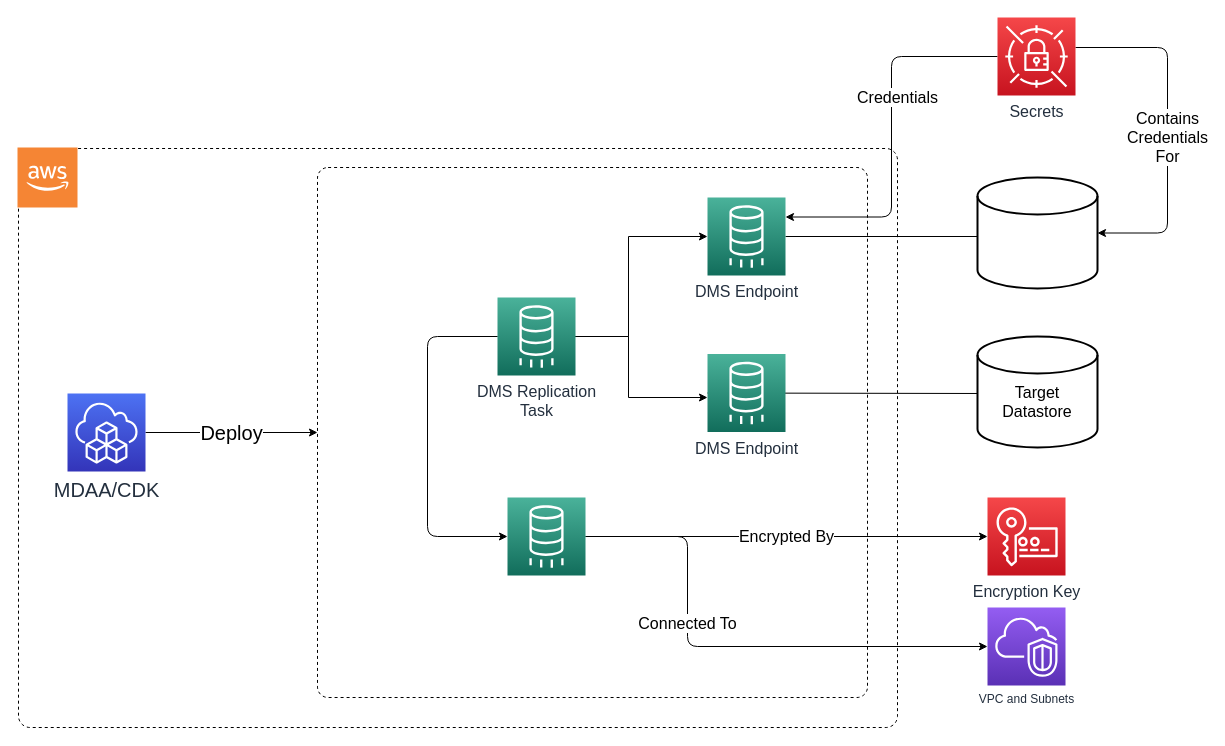
Some shapes in this 1225 by 746 pixel diagram are drawn without their labels. Here are the shapes that lost their labels. From the top down, the box of each, then its label:
(16, 146, 78, 208): Deployment/Target Account
(976, 176, 1098, 289): Source Database
(316, 166, 868, 698): Deployed Resources
(506, 496, 586, 576): DMS Replication Instance
